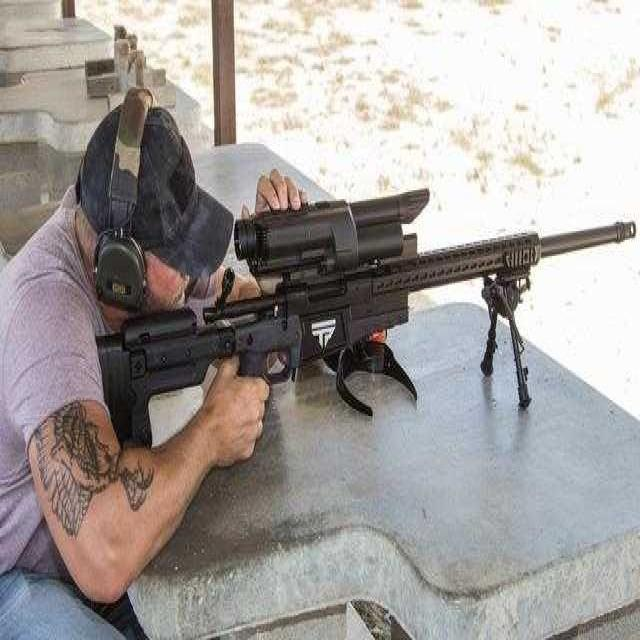heavyweapon: (84, 165, 640, 479)
